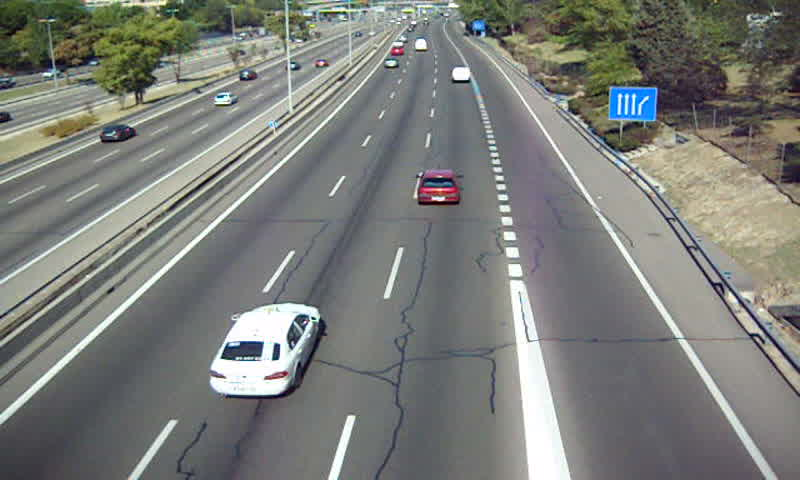car: (208, 304, 320, 397), (417, 170, 459, 205), (383, 56, 399, 69)
van: (451, 66, 471, 83)
